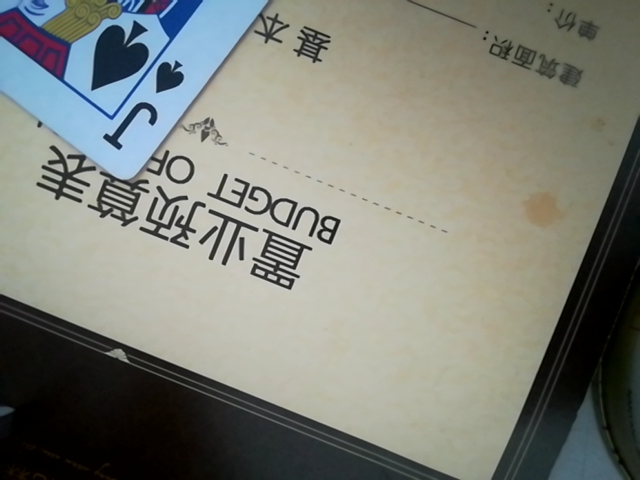ht j: (5, 0, 360, 178)
